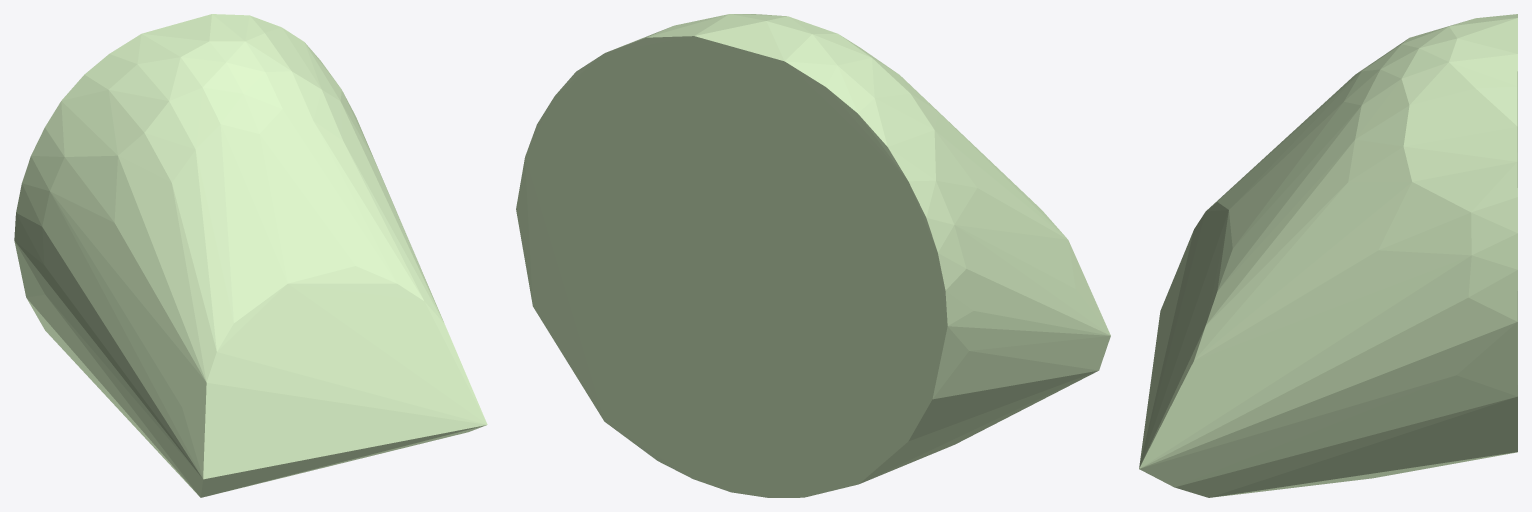
Rendered from kuka_link2_resp_coll_1.dae.
The picture shows the model from 3 angles, left to right: view 1: azimuth 30°, elevation 25°; view 2: azimuth 150°, elevation 25°; view 3: azimuth 270°, elevation 25°; orthographic projection. The views are drawn at different scales.
Visible parts, largest first — view 1: Node_0000015C5C912E10; view 2: Node_0000015C5C912E10; view 3: Node_0000015C5C912E10.
Boxes of the visible parts, x1,y1,x2,y2 form: Node_0000015C5C912E10: (14,14,487,497); Node_0000015C5C912E10: (516,14,1110,497); Node_0000015C5C912E10: (1139,14,1517,497).
Size of the model in its own units: 0.1364 by 0.143 by 0.1175.
